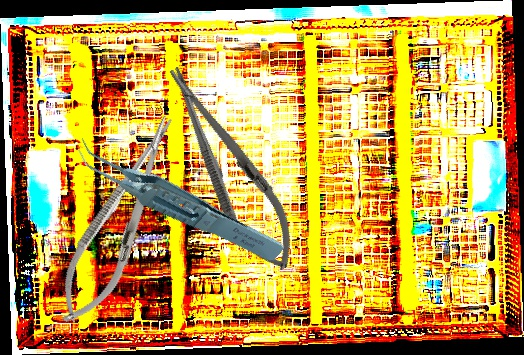Needle Holder: (149, 54, 311, 282), (44, 105, 194, 336)
Tissue Forceps: (70, 97, 287, 300)
